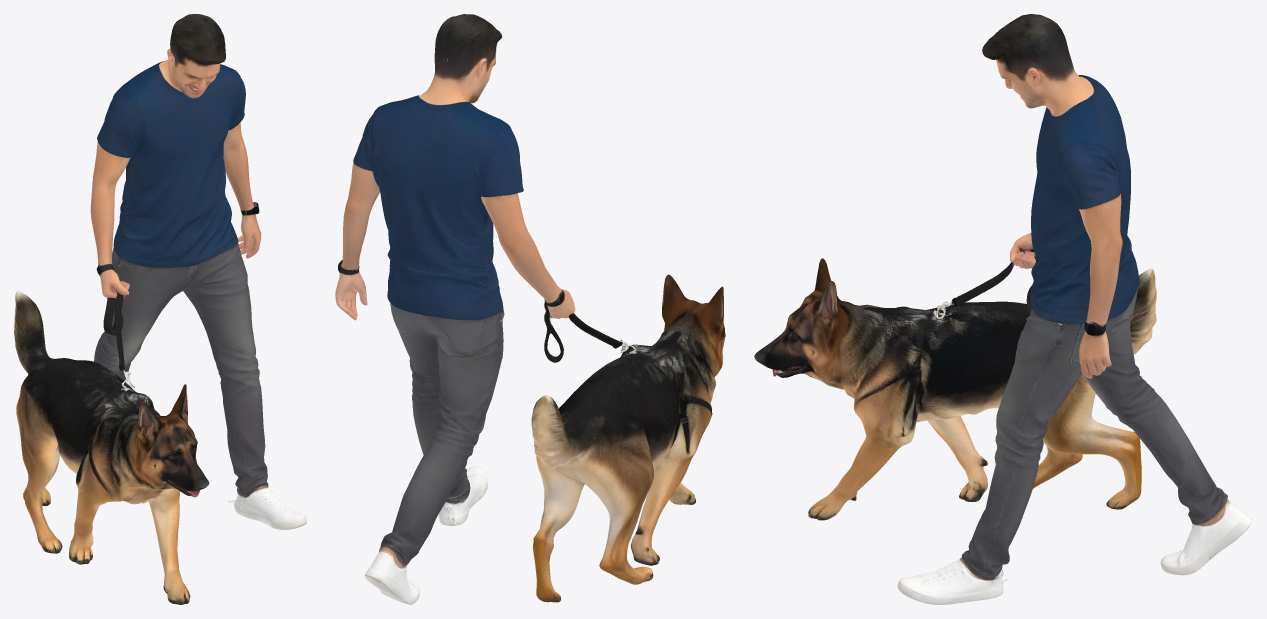
File: pedestrian-man-dog.glb
3 views of the same model, side by side, from view 1: azimuth 30°, elevation 25°; view 2: azimuth 150°, elevation 25°; view 3: azimuth 270°, elevation 25° (orthographic). The views are drawn at different scales.
Visible parts, largest first — view 1: Object_7, Object_5, Object_6; view 2: Object_6, Object_5, Object_7; view 3: Object_5, Object_6, Object_7.
Boxes of the visible parts, x1=… form: Object_7: x1=20, y1=14, x2=276, y2=564; Object_5: x1=16, y1=59, x2=306, y2=604; Object_6: x1=14, y1=29, x2=259, y2=528; Object_6: x1=335, y1=27, x2=649, y2=604; Object_5: x1=338, y1=58, x2=725, y2=574; Object_7: x1=409, y1=14, x2=702, y2=584; Object_5: x1=754, y1=51, x2=1130, y2=604; Object_6: x1=1016, y1=25, x2=1252, y2=575; Object_7: x1=916, y1=14, x2=1063, y2=603.
Size of the model in its own units: 1.06 by 1.9 by 1.53.
Materials: 1 (1 with a texture image).
